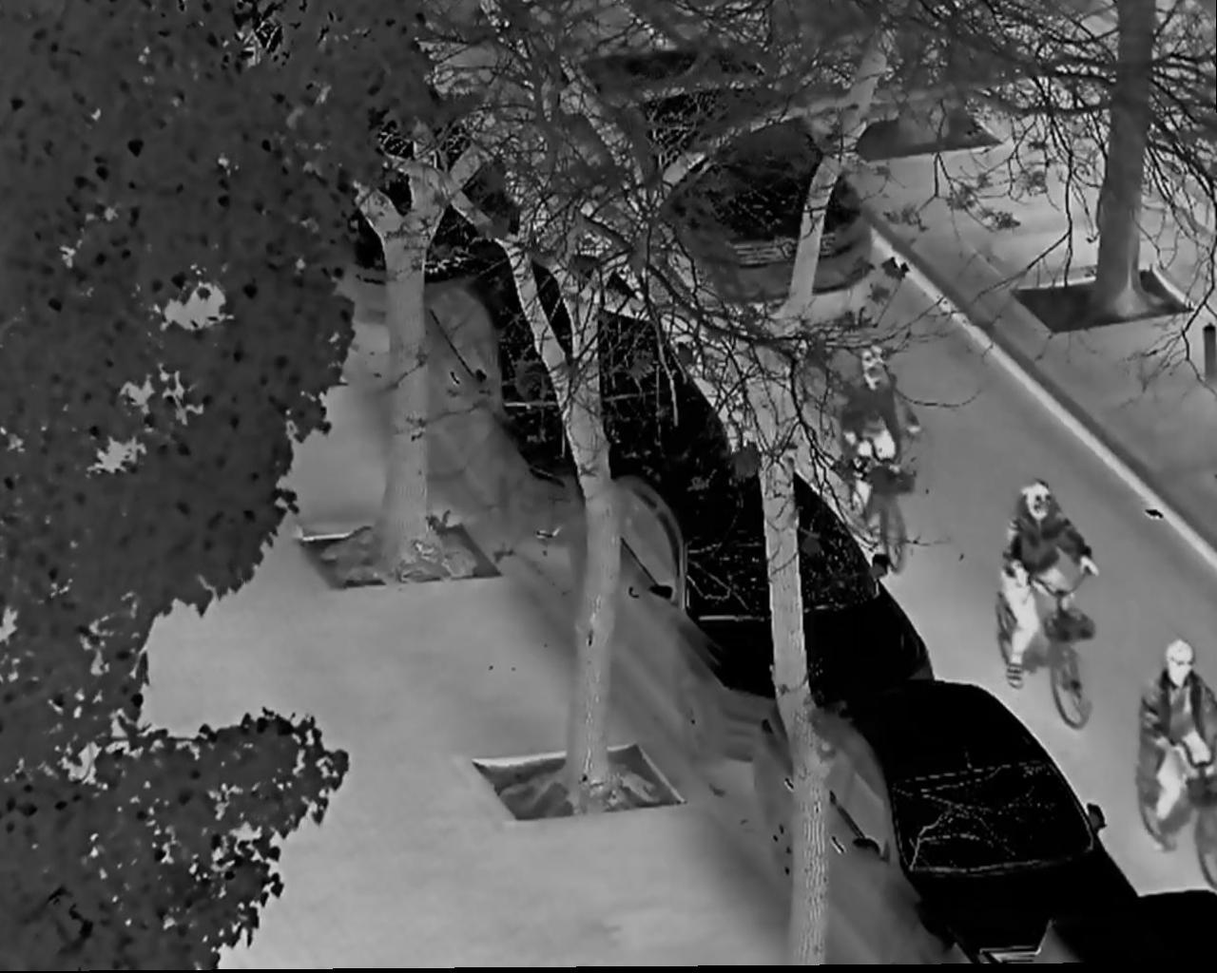person: (1000, 476, 1100, 695), (1145, 641, 1217, 847), (843, 347, 918, 533)
